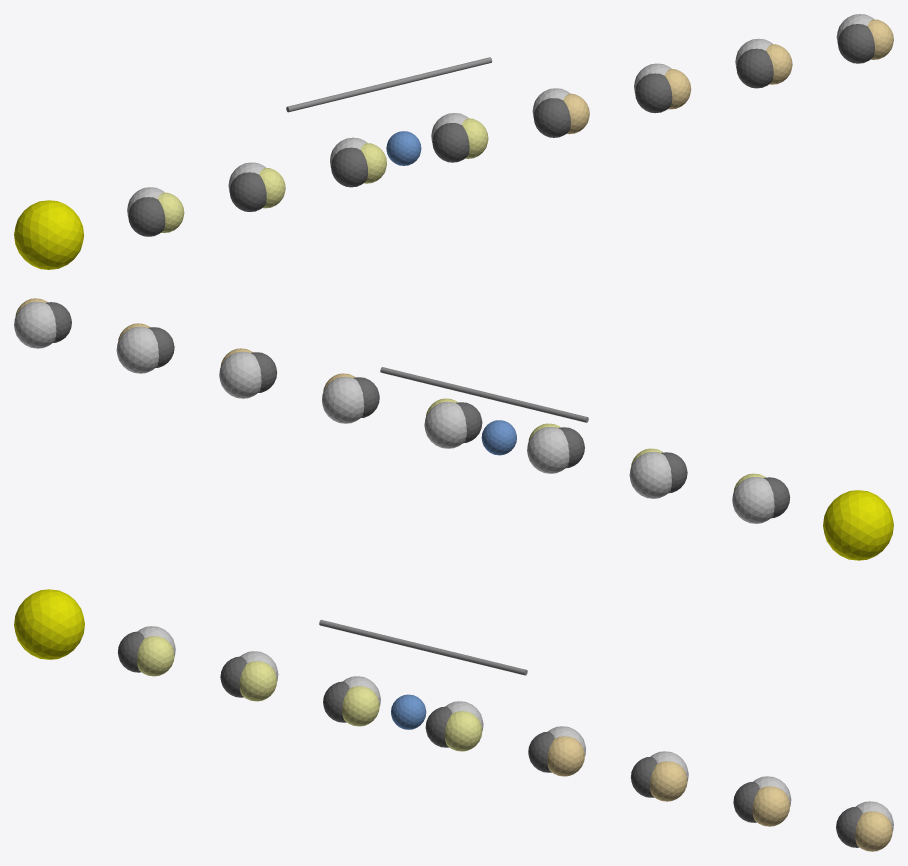
The model's file is moon_phases.glb.
3 renders of one model, top to bottom at view 1: azimuth 30°, elevation 25°; view 2: azimuth 150°, elevation 25°; view 3: azimuth 330°, elevation 25°, orthographic.
Parts seen in each view (by area): view 1: world; view 2: world; view 3: world.
Part boxes in pixels (x1=…): world: x1=14, y1=14, x2=893, y2=269; world: x1=14, y1=298, x2=893, y2=560; world: x1=14, y1=589, x2=893, y2=851.
Bounding box in the file's own units: 17.1 × 1.65 × 1.2.
